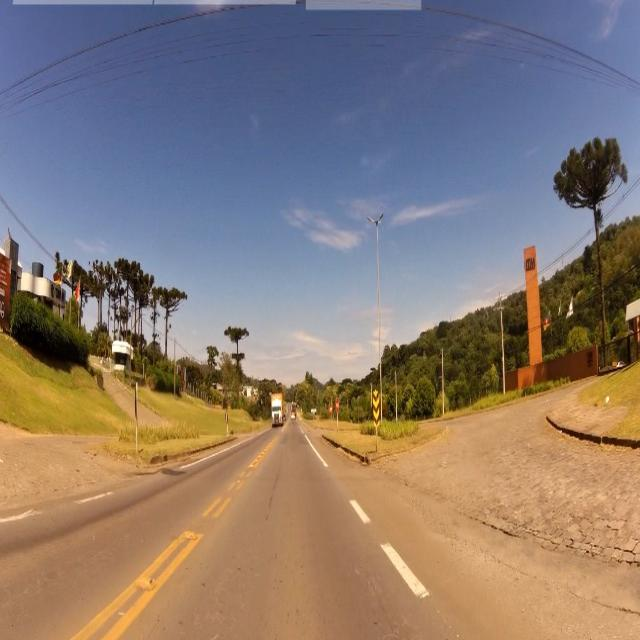MP: (372, 390, 380, 431)
